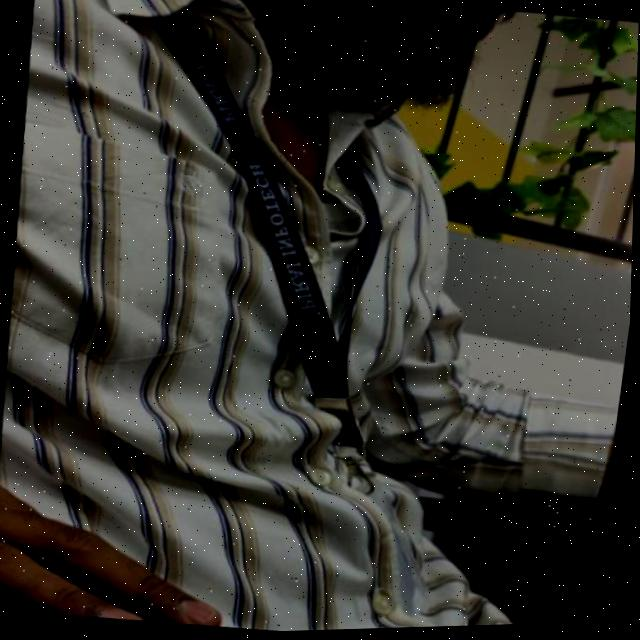id_card: (134, 11, 470, 511)
